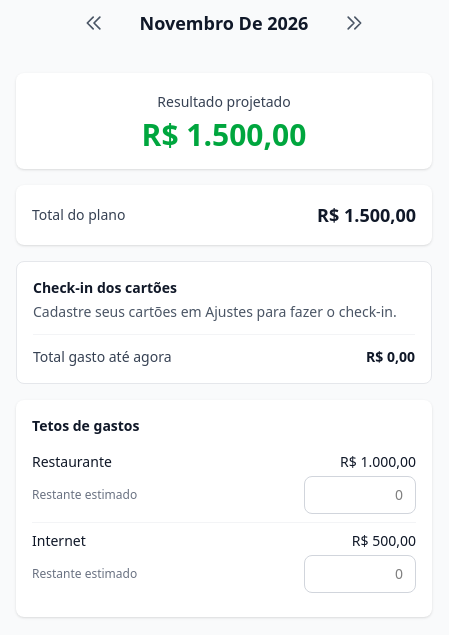
Remaining estimates › edits a bucket's remaining estimate, updating the projection live and the plan tab
The width and height of the screenshot is (449, 635).
Expected: the text "R$ 1.500,00" below "Resultado projetado" is shown, left=142, top=114, right=306, bottom=155
When I enter what is still expected until month end
In the field named "Restante estimado — Restaurante": (360, 495) left=304, top=476, right=416, bottom=514, type "250"
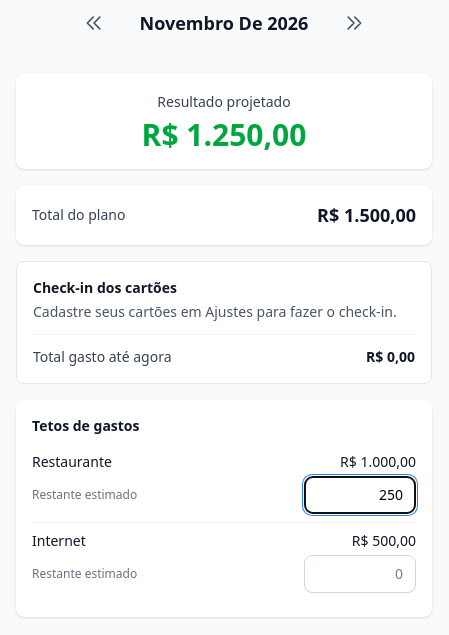
Expected: the text "R$ 1.250,00" is shown, left=142, top=114, right=306, bottom=155
